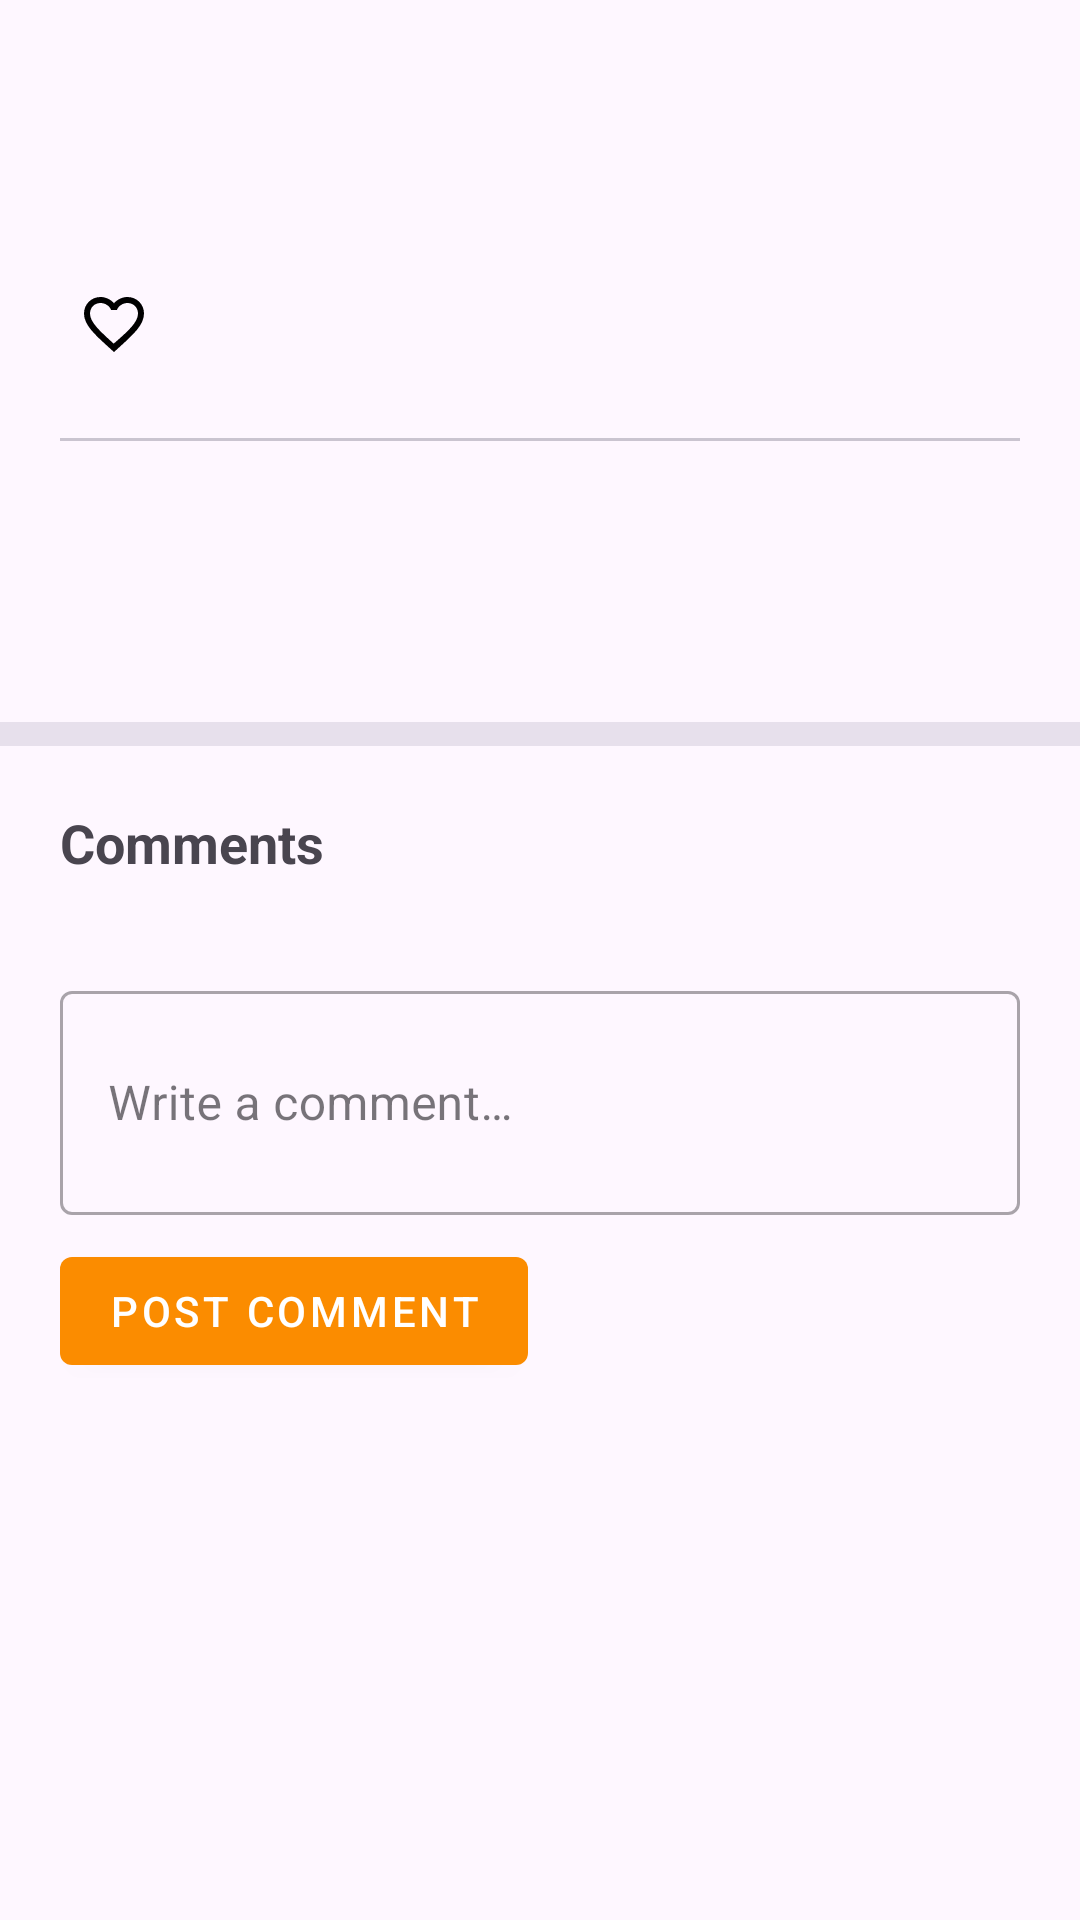

Icons on this 1080*1920 Android screen, each with its box as (x1, y1, x2, y2):
Like: (84, 297, 144, 352)
